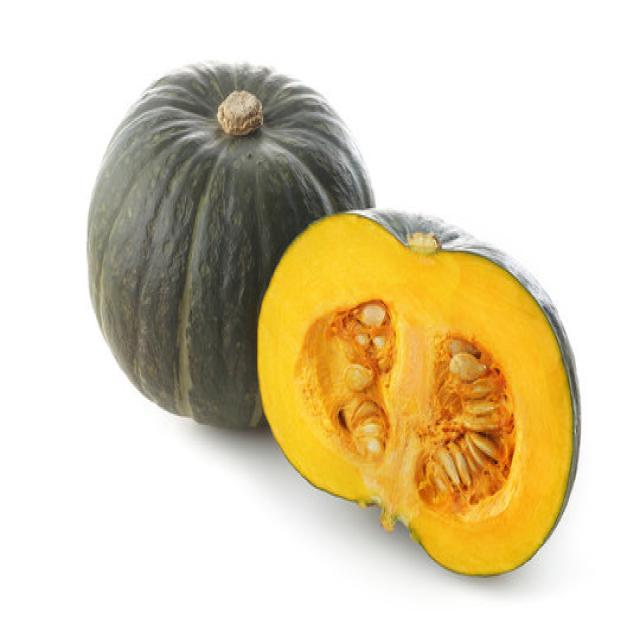Pumpkin: (256, 204, 581, 576), (86, 57, 374, 430)
